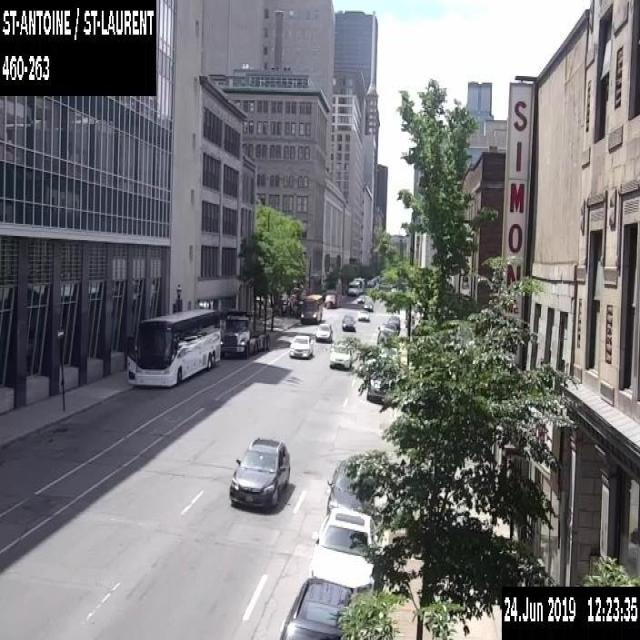bus: (125, 307, 220, 387), (300, 292, 322, 323)
vehicle: (309, 507, 379, 595), (227, 433, 290, 515), (278, 576, 354, 639), (325, 456, 374, 516), (220, 308, 270, 360), (365, 370, 388, 401), (329, 343, 356, 369), (289, 334, 313, 356), (380, 346, 400, 368), (315, 323, 332, 342), (324, 288, 339, 306), (341, 313, 356, 330), (377, 329, 391, 346), (348, 280, 360, 296), (387, 314, 399, 327), (357, 308, 369, 320), (382, 322, 396, 332), (363, 300, 373, 310), (356, 294, 364, 302)
